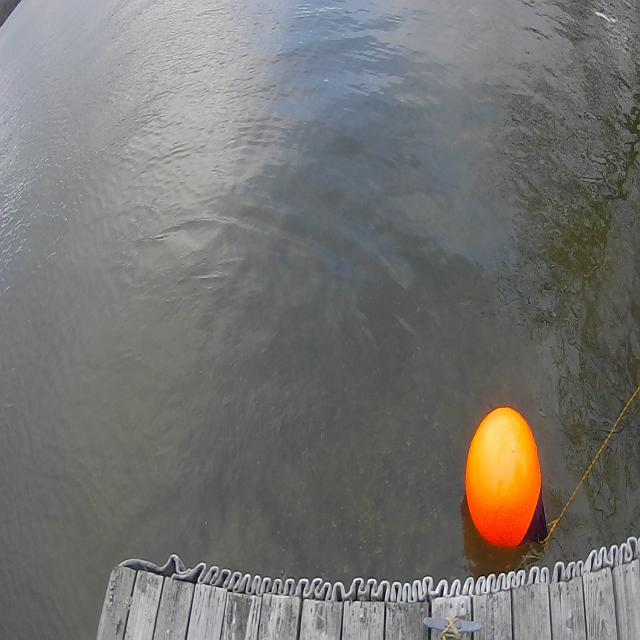Buoy: (464, 395, 554, 559)
